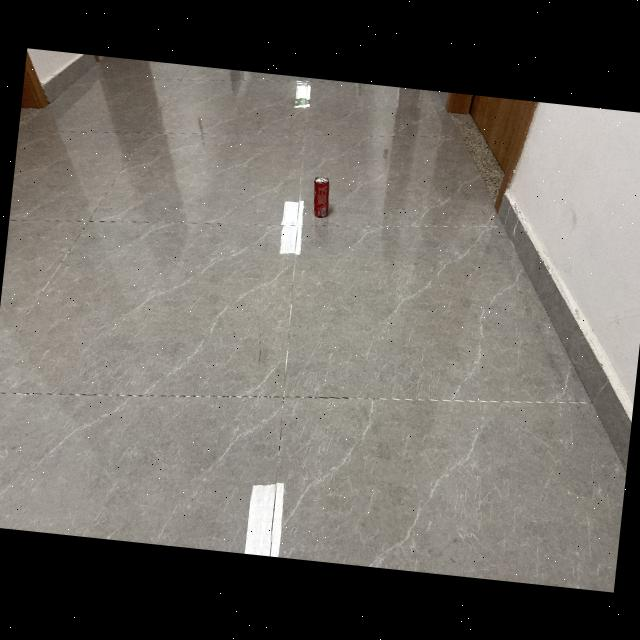Cola: (304, 170, 336, 222)
